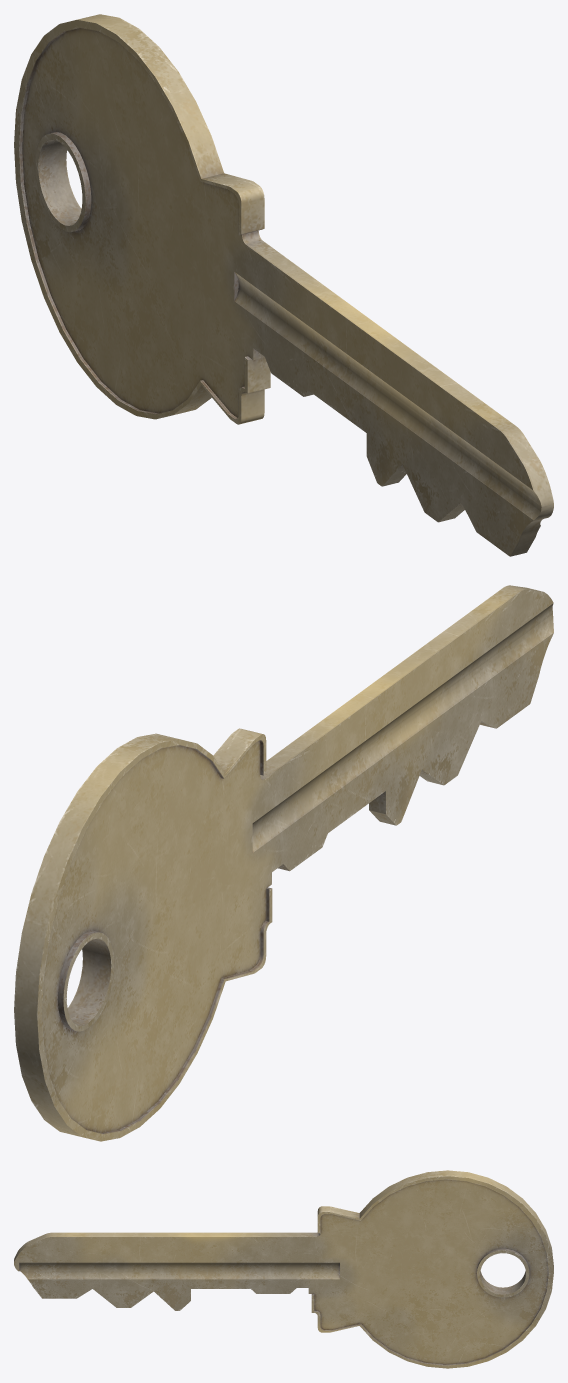
The model's file is low_poly_key.glb.
The picture shows the model from 3 angles, top to bottom: view 1: azimuth 30°, elevation 25°; view 2: azimuth 150°, elevation 25°; view 3: azimuth 270°, elevation 25°; orthographic projection. The views are drawn at different scales.
Visible parts, largest first — view 1: Cylinder; view 2: Cylinder; view 3: Cylinder.
Boxes of the visible parts, x1,y1,x2,y2 form: Cylinder: [14, 14, 553, 556]; Cylinder: [14, 585, 553, 1141]; Cylinder: [14, 1170, 553, 1368].
Bounding box in the file's own units: 0.0811 × 1.02 × 2.59.
Materials: 1 (1 with a texture image).
